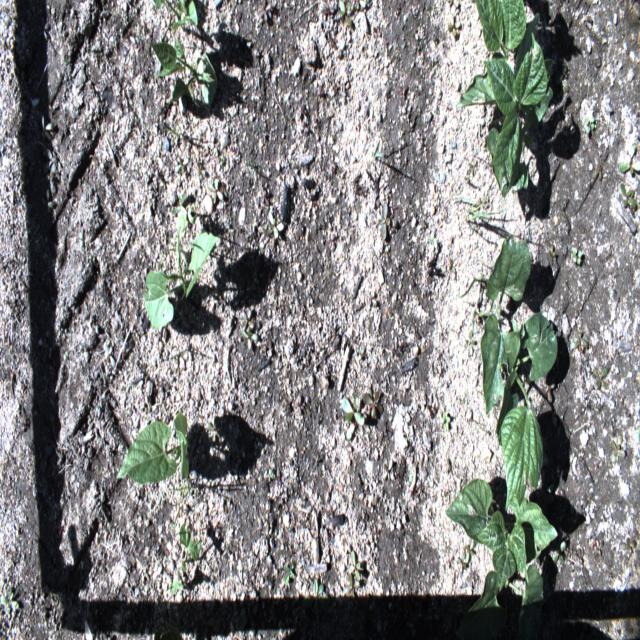crop: (479, 236, 558, 510), (443, 476, 558, 619), (483, 13, 553, 194), (141, 207, 220, 331), (456, 0, 527, 110), (115, 412, 191, 485), (150, 35, 218, 105), (170, 523, 202, 594), (153, 0, 199, 31), (154, 626, 184, 638)
weed: (451, 196, 507, 232), (162, 484, 193, 541), (457, 275, 488, 328), (340, 395, 365, 440), (302, 579, 329, 619), (618, 140, 640, 174), (263, 210, 285, 242), (363, 389, 384, 421), (204, 411, 224, 444), (372, 120, 387, 163), (0, 587, 19, 615), (610, 434, 626, 464), (40, 112, 56, 142), (348, 550, 362, 582), (338, 0, 354, 28), (620, 183, 637, 209), (207, 176, 224, 202), (242, 328, 260, 351), (377, 205, 389, 239), (162, 122, 184, 140), (551, 539, 566, 564), (283, 559, 296, 587), (593, 366, 608, 390), (559, 62, 570, 91), (242, 307, 254, 332), (465, 329, 477, 354), (174, 155, 189, 174), (37, 20, 49, 43), (573, 332, 590, 348), (621, 538, 636, 556), (441, 409, 452, 432), (571, 247, 583, 267), (594, 160, 606, 180), (41, 191, 55, 208), (594, 535, 604, 558), (48, 165, 56, 193), (457, 557, 470, 574), (465, 542, 475, 562), (584, 117, 596, 133), (47, 148, 57, 167), (84, 620, 93, 639), (447, 257, 457, 274), (576, 548, 584, 565), (428, 233, 436, 249), (448, 24, 457, 38), (197, 162, 206, 176), (179, 191, 186, 205), (269, 468, 275, 481)
